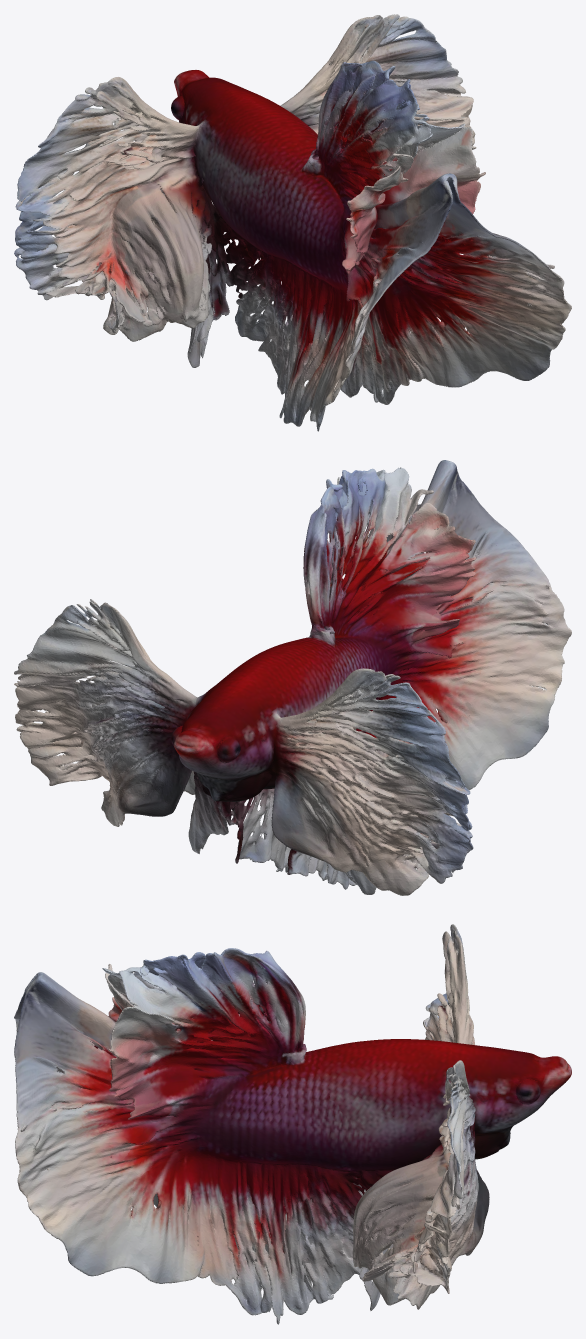
File: bettafish-3d.glb
The picture shows the model from 3 angles, top to bottom: view 1: azimuth 30°, elevation 25°; view 2: azimuth 150°, elevation 25°; view 3: azimuth 270°, elevation 25°; orthographic projection.
Visible parts, largest first — view 1: tripo_node_ee1b6295-b354-4bc8-b7ac-3b3c115e81df; view 2: tripo_node_ee1b6295-b354-4bc8-b7ac-3b3c115e81df; view 3: tripo_node_ee1b6295-b354-4bc8-b7ac-3b3c115e81df.
Part boxes in pixels (x1,y1,x2,y2): tripo_node_ee1b6295-b354-4bc8-b7ac-3b3c115e81df: [14, 14, 571, 431]; tripo_node_ee1b6295-b354-4bc8-b7ac-3b3c115e81df: [14, 460, 571, 895]; tripo_node_ee1b6295-b354-4bc8-b7ac-3b3c115e81df: [14, 924, 571, 1324].
Size of the model in its own units: 0.9536 by 0.7214 by 0.9999.
Materials: 1 (1 with a texture image).
